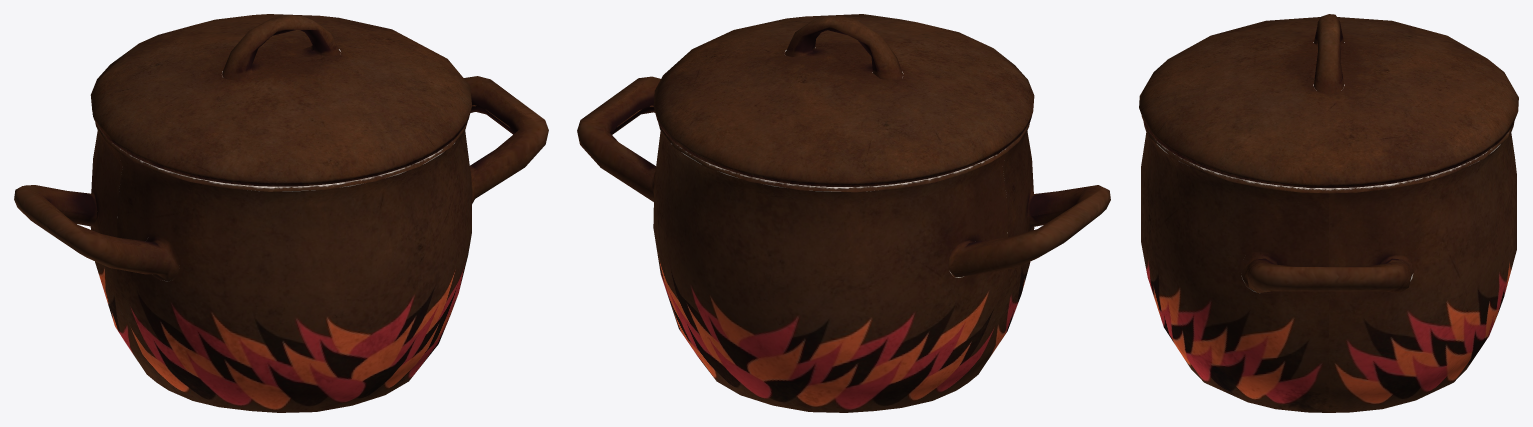
The model's file is pot_enamel_01.glb.
The picture shows the model from 3 angles, left to right: view 1: azimuth 30°, elevation 25°; view 2: azimuth 150°, elevation 25°; view 3: azimuth 270°, elevation 25°; orthographic projection.
Visible parts, largest first — view 1: pot_enamel_01; view 2: pot_enamel_01; view 3: pot_enamel_01.
Boxes of the visible parts, x1,y1,x2,y2 form: pot_enamel_01: [14, 14, 548, 412]; pot_enamel_01: [577, 14, 1110, 412]; pot_enamel_01: [1139, 14, 1518, 412].
Bounding box in the file's own units: 0.2631 × 0.1784 × 0.181.
Materials: 1 (1 with a texture image).
